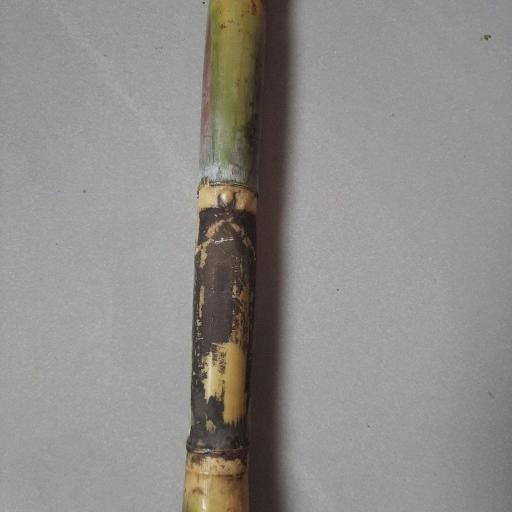Bud: (216, 187, 236, 212)
